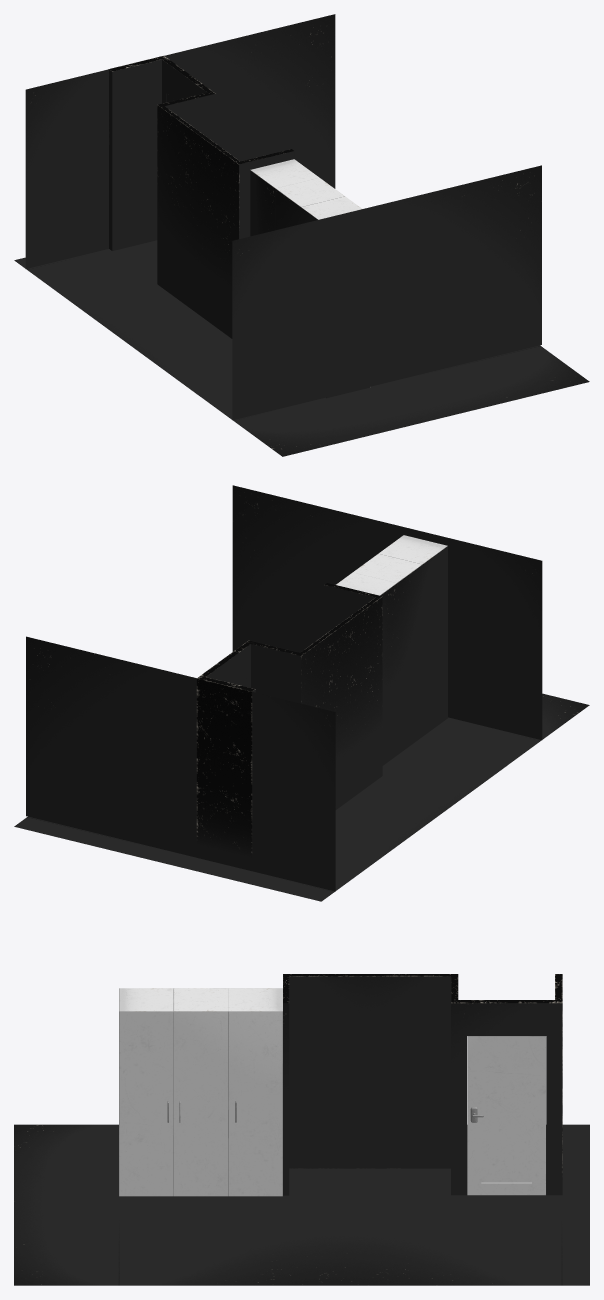
The model's file is environment.glb.
The picture shows the model from 3 angles, top to bottom: view 1: azimuth 30°, elevation 25°; view 2: azimuth 150°, elevation 25°; view 3: azimuth 270°, elevation 25°; orthographic projection. The views are drawn at different scales.
Visible parts, largest first — view 1: back-wall; view 2: back-wall; view 3: back-wall, door.
Boxes of the visible parts, bbox=[...] form: back-wall: bbox=[14, 14, 589, 456]; back-wall: bbox=[14, 485, 589, 901]; back-wall: bbox=[14, 974, 589, 1285]; door: bbox=[467, 1036, 545, 1195].
Bounding box in the file's own units: 4.39 × 2.47 × 6.59.
1 material, 1 textured.
